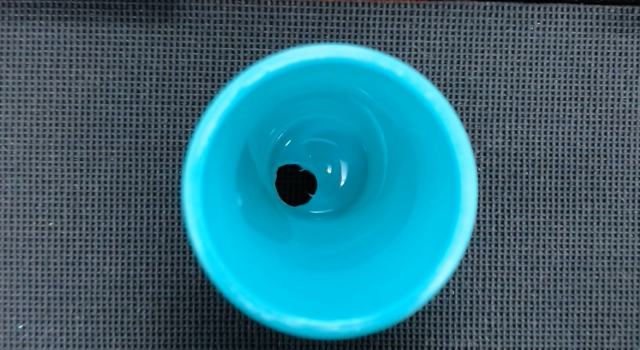hole: (274, 164, 317, 206)
